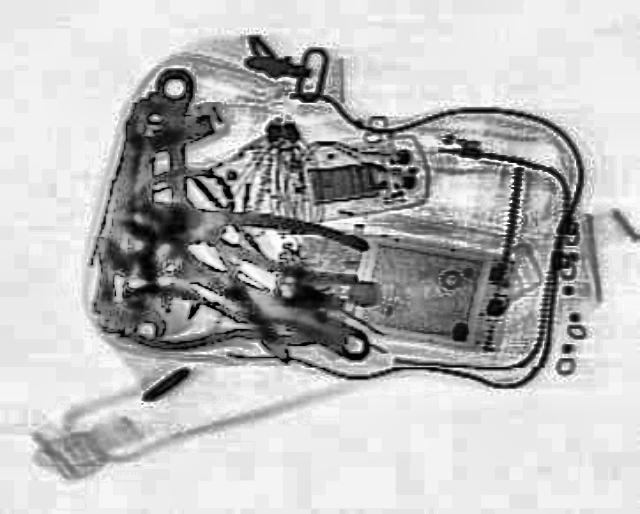Pliers: (134, 180, 373, 290)
Wrench: (83, 206, 389, 374), (150, 66, 200, 318), (122, 96, 166, 338)
